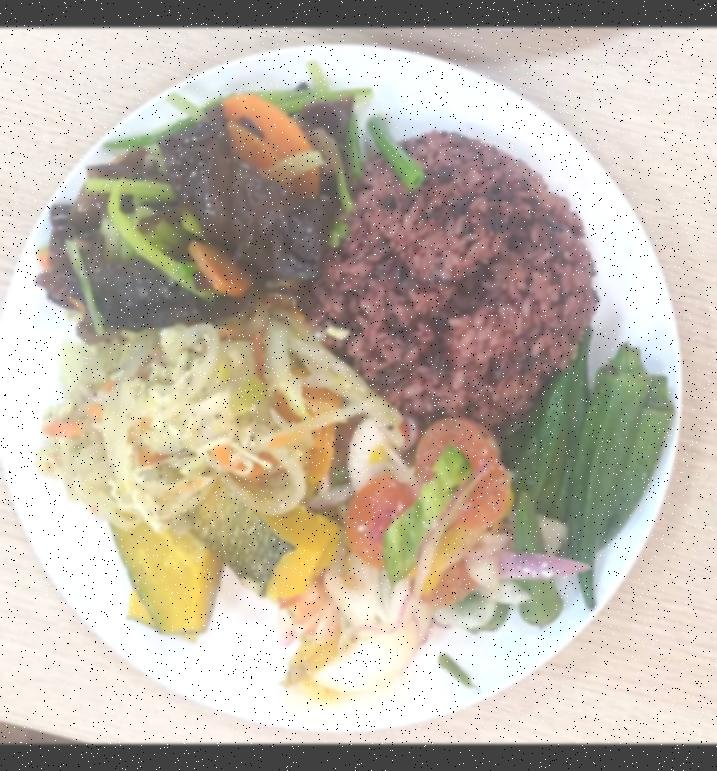plate: (0, 38, 684, 729)
purple rice: (328, 130, 597, 447)
side dish: (33, 86, 361, 320), (295, 419, 511, 707), (40, 318, 336, 507), (493, 348, 673, 628), (104, 484, 330, 632)
